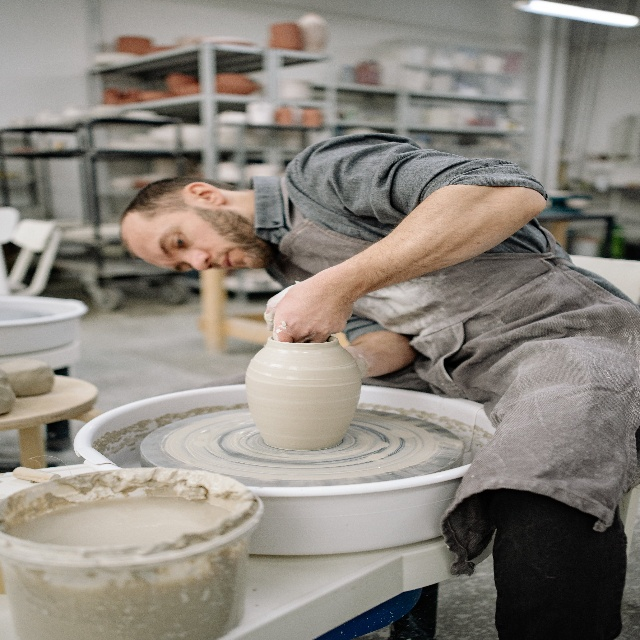Sin_guantes: (263, 268, 354, 343)
